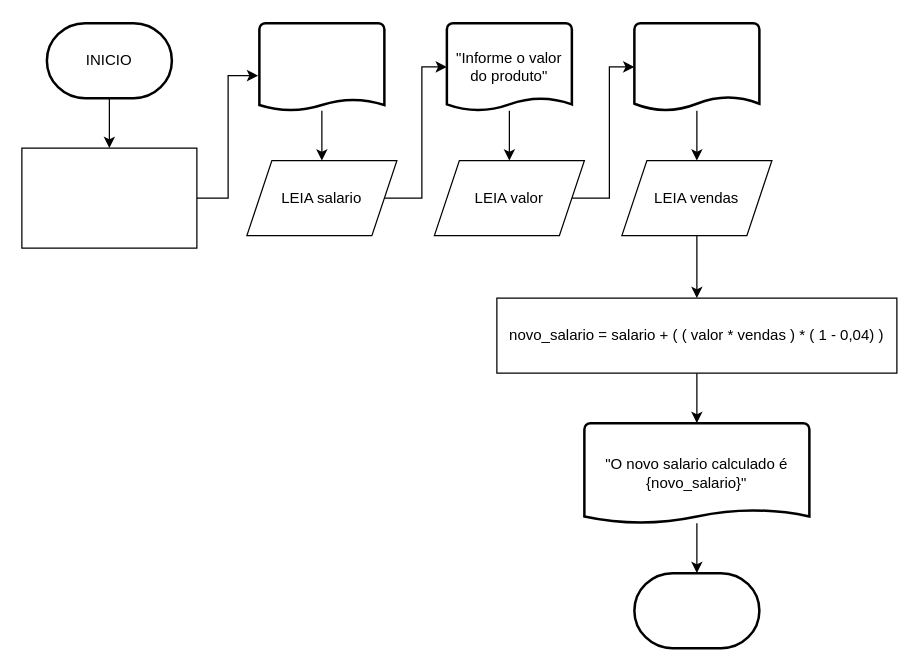
Some shapes in this 919 by 670 pixel diagram are drawn without their labels. The shapes that lost their labels are listed below. From the top down, each one's centre as x and y in pixels, then its label:
point (321, 66): "Informe o salário"
point (696, 66): "Informe a Quantidade vendida"
point (109, 197): DECLARE salario, valor, novo_salario e vendas como float
point (696, 610): FIM
